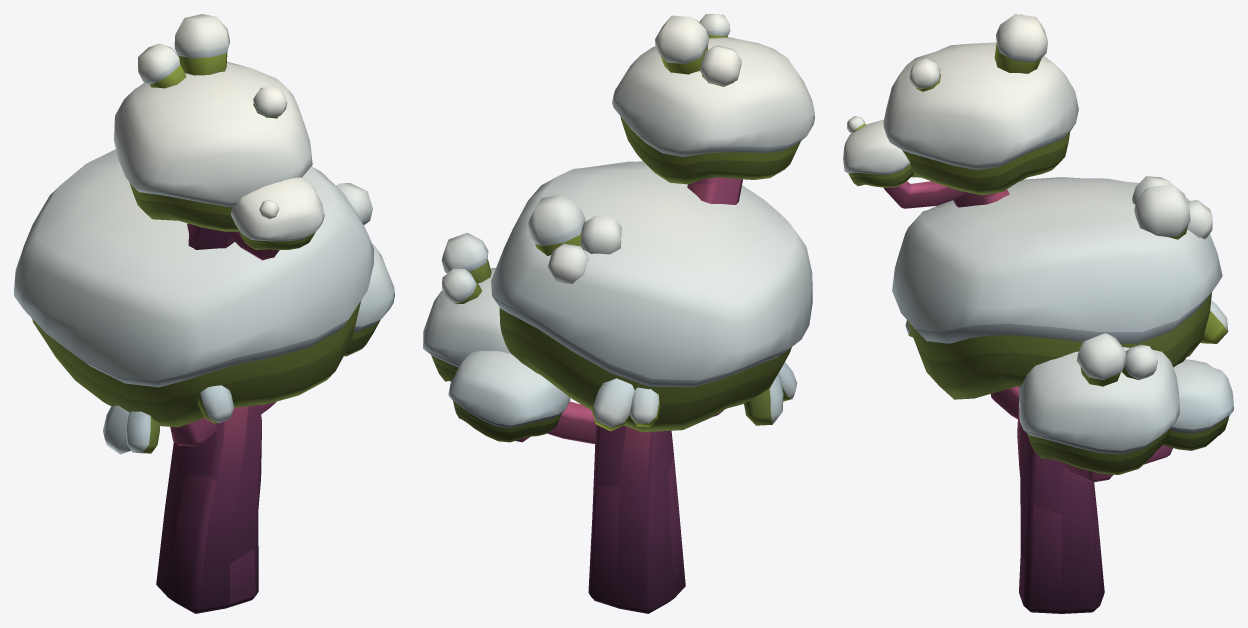
Rendered from grassland_tree_col1_2_snow.fbx.
3 views of the same model, side by side, from view 1: azimuth 30°, elevation 25°; view 2: azimuth 150°, elevation 25°; view 3: azimuth 270°, elevation 25° (orthographic). The views are drawn at different scales.
Visible parts, largest first — view 1: grassland_tree_col1_2_snow; view 2: grassland_tree_col1_2_snow; view 3: grassland_tree_col1_2_snow.
Part boxes in pixels (x1,y1,x2,y2): grassland_tree_col1_2_snow: [14, 14, 394, 613]; grassland_tree_col1_2_snow: [423, 14, 814, 613]; grassland_tree_col1_2_snow: [843, 14, 1233, 613].
Size of the model in its own units: 726 by 1187 by 738.
Materials: 1 (1 with a texture image).
